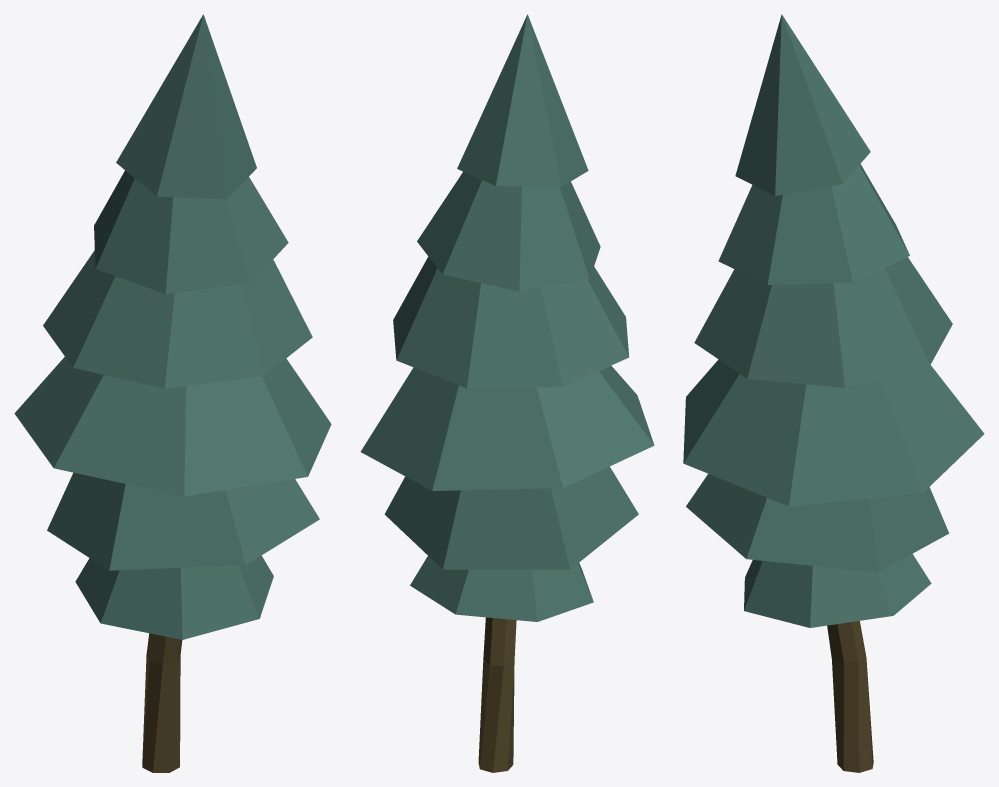
Rendered from PineTree.fbx.
The picture shows the model from 3 angles, left to right: view 1: azimuth 30°, elevation 25°; view 2: azimuth 150°, elevation 25°; view 3: azimuth 270°, elevation 25°; orthographic projection. The views are drawn at different scales.
Parts seen in each view (by area): view 1: Cylinder; view 2: Cylinder; view 3: Cylinder.
Part boxes in pixels (box(x1,y1,x2,y2)): Cylinder: box(14, 14, 331, 772); Cylinder: box(360, 14, 654, 772); Cylinder: box(683, 14, 984, 772).
Size of the model in its own units: 311 by 842 by 305.
